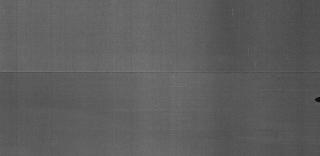punching hole: (314, 96, 320, 102)
